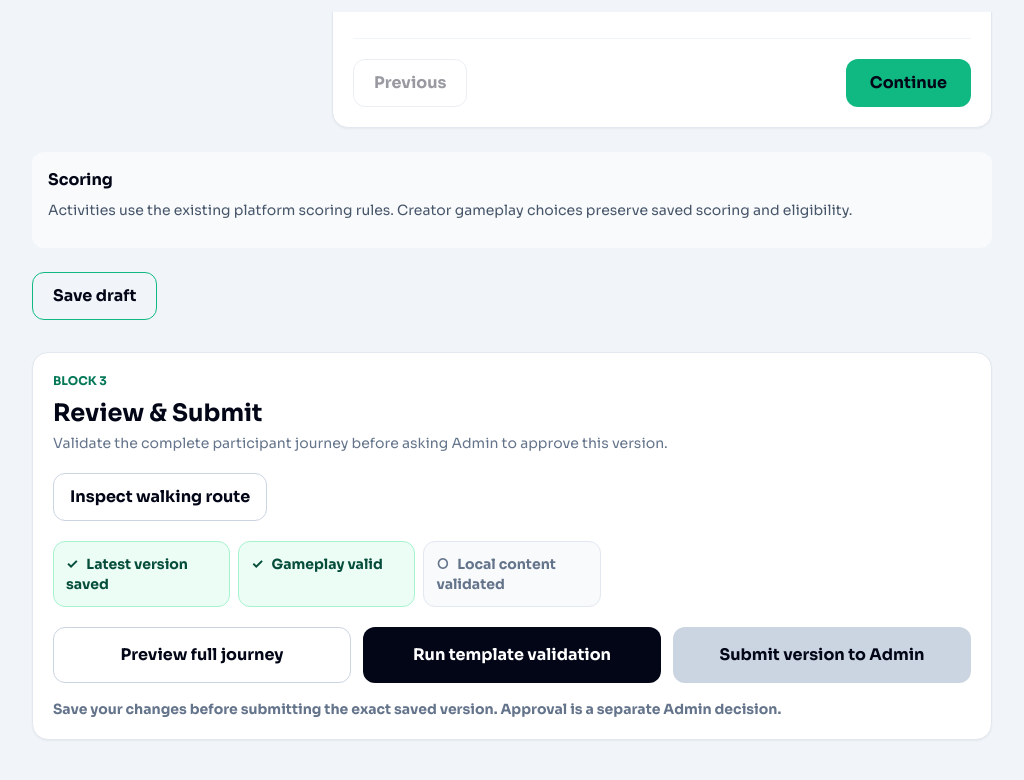
Scenario: 12 descriptive registry corrections do not force resnapshot; drift after validation is rechecked
(page scrolled)
Step 1. Click the button "Run template validation" → (512, 654), box top-left (363, 626), bottom-right (661, 682)
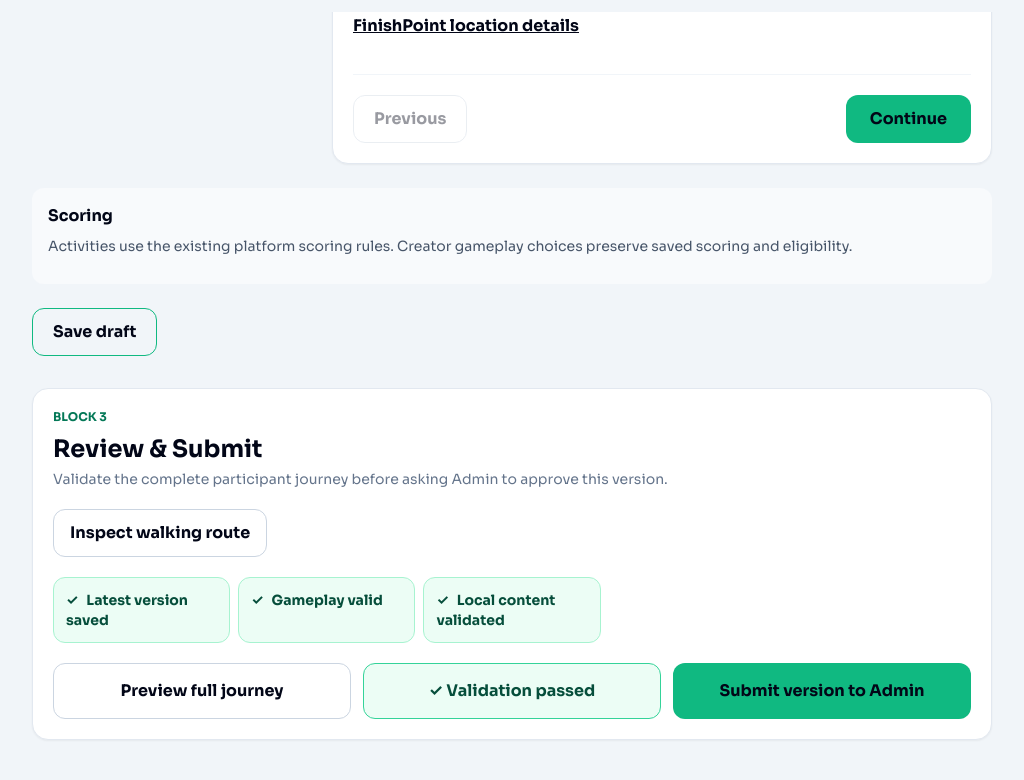
expect the button "Submit version to Admin" is enabled: met
Step 2. Click the button "Submit version to Admin" → (822, 690), box top-left (673, 662), bottom-right (971, 718)
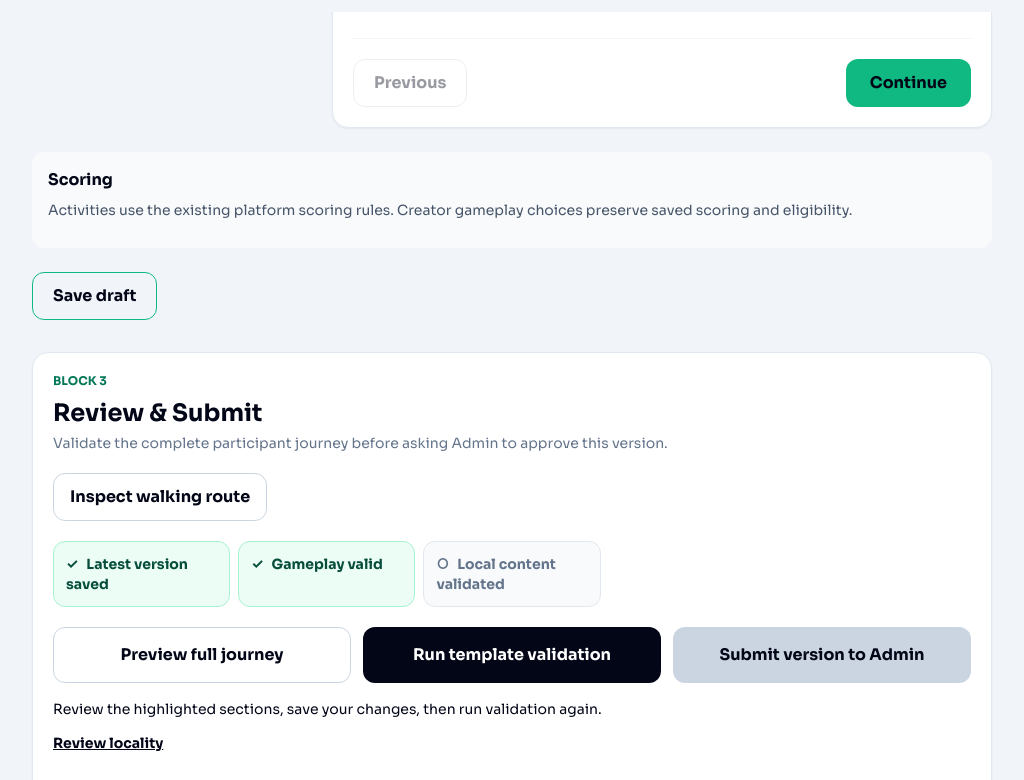
expect the button "Submit version to Admin" is disabled: met, box top-left (673, 626), bottom-right (971, 682)
